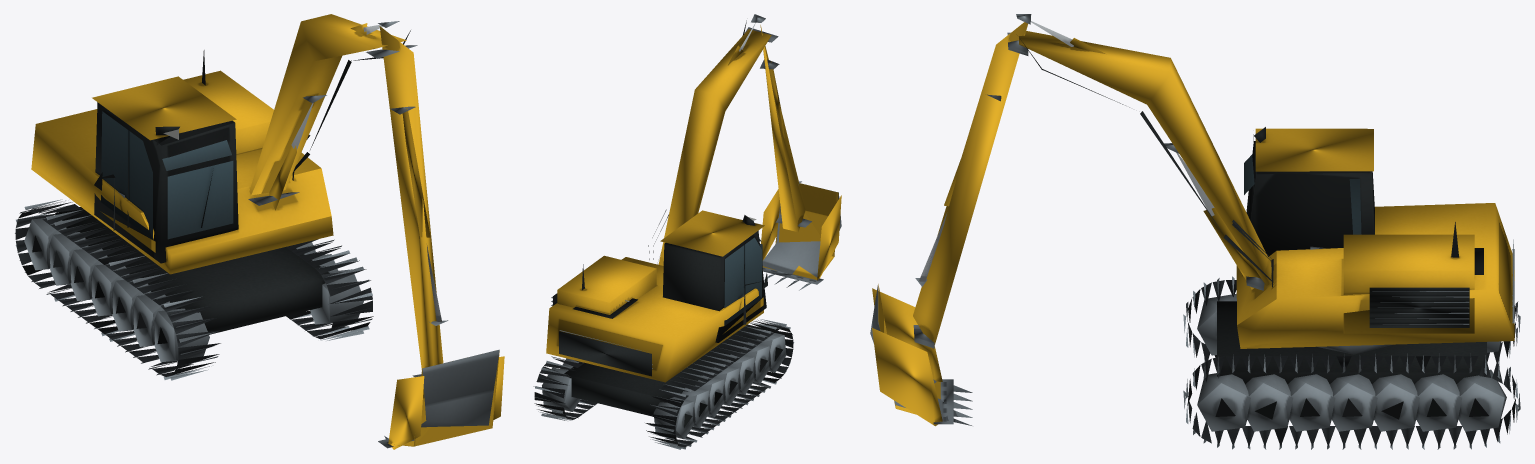
Rendered from excavator.lod2.obj.
3 views of the same model, side by side, from view 1: azimuth 30°, elevation 25°; view 2: azimuth 150°, elevation 25°; view 3: azimuth 270°, elevation 25° (orthographic). The views are drawn at different scales.
Visible parts, largest first — view 1: excavator; view 2: excavator; view 3: excavator.
Part boxes in pixels (<box>): excavator: <box>15,14,504,449</box>; excavator: <box>533,14,841,449</box>; excavator: <box>870,14,1520,449</box>.
Size of the model in its own units: 3.23 by 5.61 by 8.19.
Materials: 1 (1 with a texture image).
